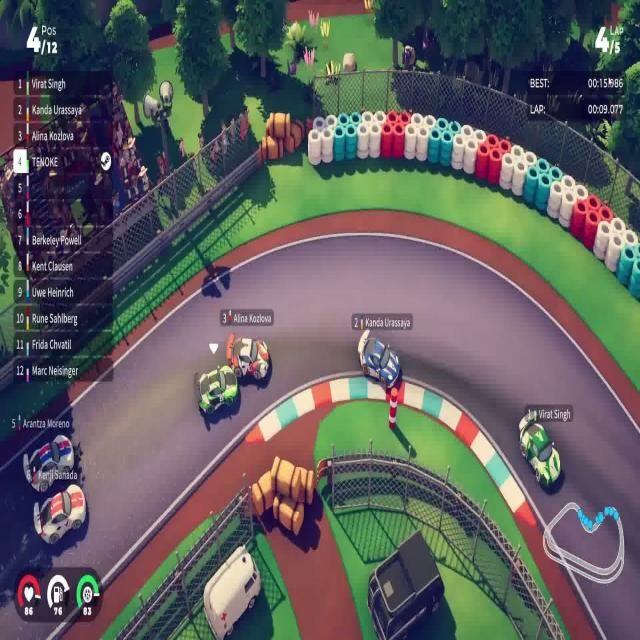car: (518, 408, 561, 489), (32, 482, 86, 546), (22, 432, 75, 492), (357, 328, 401, 389), (197, 362, 239, 417), (226, 331, 270, 382)
